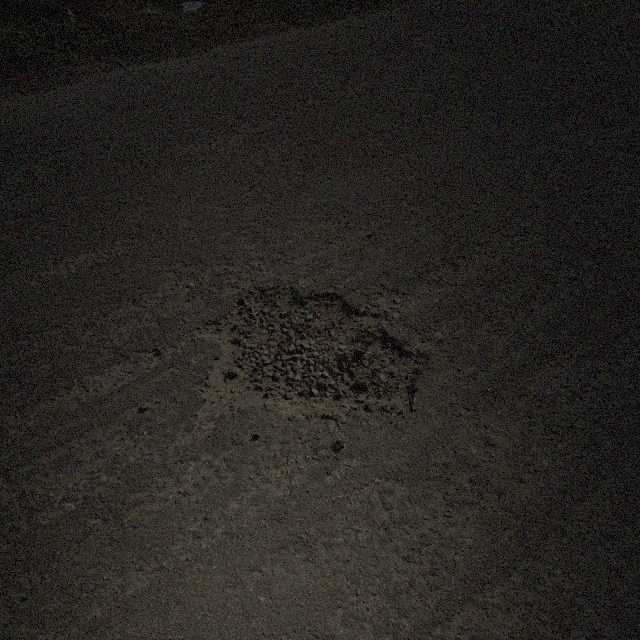pothole: (189, 281, 432, 420)
